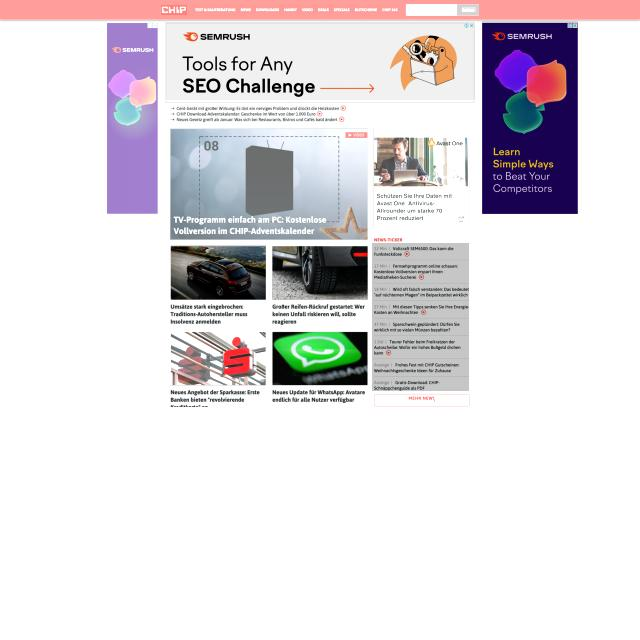CheckBox: (373, 394, 470, 407), (457, 4, 479, 15)
CheckedTextView: (406, 4, 457, 16)
ImageView: (166, 23, 475, 100), (482, 21, 578, 214), (106, 22, 158, 215), (374, 128, 469, 229)
QR code: (372, 243, 469, 391)
bag: (0, 0, 640, 20)
card: (171, 129, 368, 240)
copy: (171, 245, 266, 300), (272, 246, 368, 300), (170, 331, 266, 385), (272, 330, 368, 384)
data feed: (408, 396, 434, 404), (462, 7, 476, 12)
date picker: (161, 5, 187, 15)
decoration: (193, 7, 399, 13)
footer: (408, 7, 450, 14)
